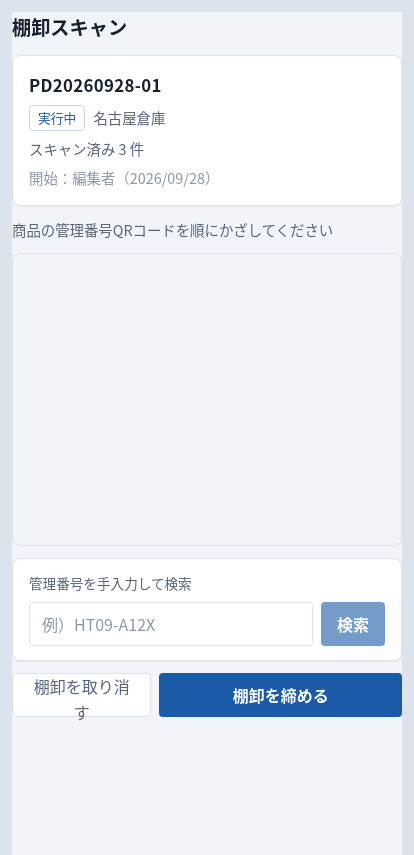
Test case: stocktake session (M3-6) › records the item and derives the warnFrozen warning in the card
Type "HT09-A1X" into the field with id "stocktake-manual-input" at (171,624), box [29, 602, 313, 646]
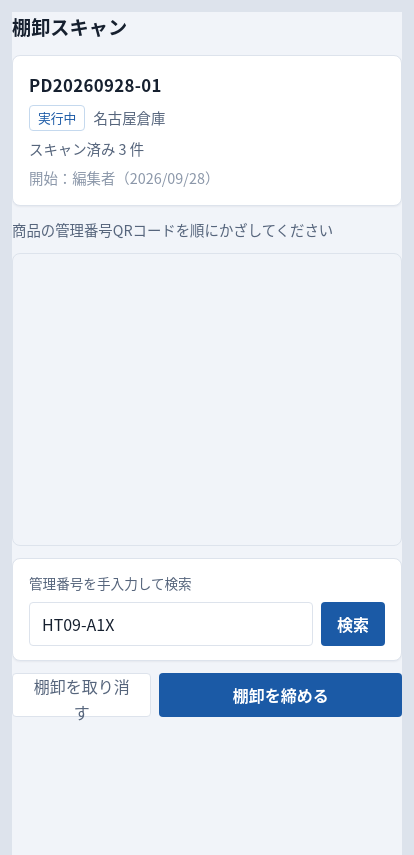
Submit the form with class "session-manual", box [12, 558, 402, 662]
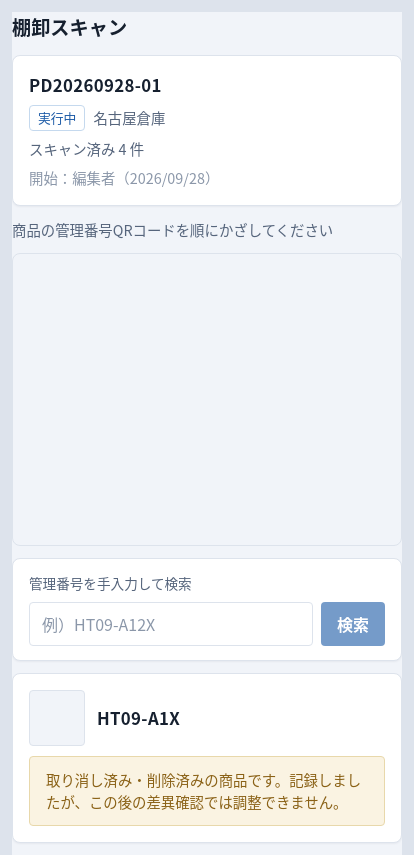
Expected: the text "スキャン済み 4 件" is shown, [29, 138, 144, 159]
Expected: the text with class "is-warning" shows "取り消し済み・削除済みの商品です", [46, 770, 361, 812]
